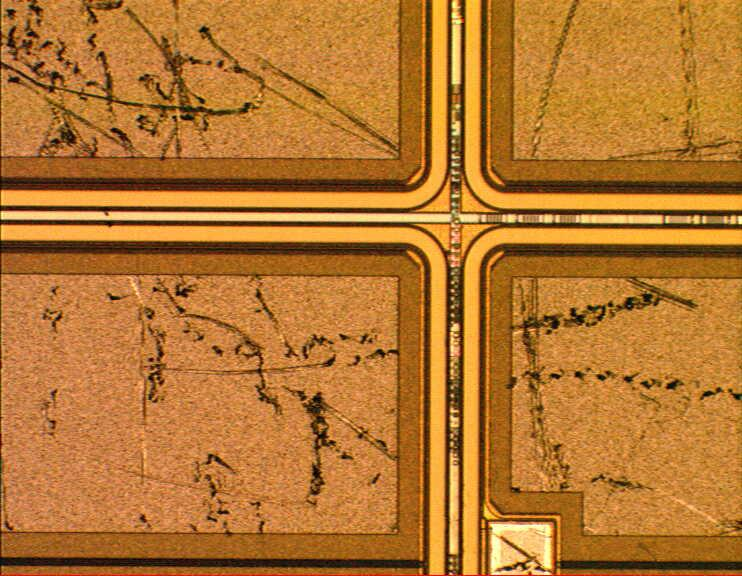SCRATCH: (1, 1, 742, 547)
